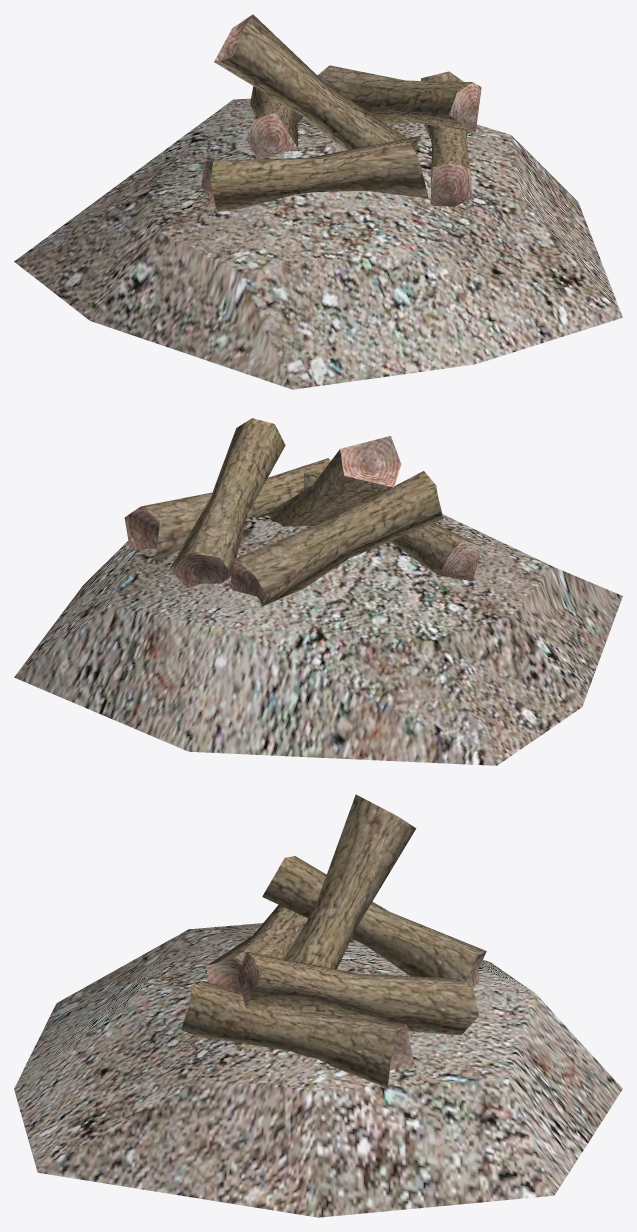
File: eqp_camping_log_fresh_l1.fbx
3 renders of one model, top to bottom at view 1: azimuth 30°, elevation 25°; view 2: azimuth 150°, elevation 25°; view 3: azimuth 270°, elevation 25°, orthographic. The views are drawn at different scales.
Visible parts, largest first — view 1: mesh_node; view 2: mesh_node; view 3: mesh_node.
Part boxes in pixels (x1,y1,x2,y2): mesh_node: (14,14,622,389); mesh_node: (14,418,622,765); mesh_node: (14,794,622,1217).
Size of the model in its own units: 1.08 by 0.498 by 1.08.
